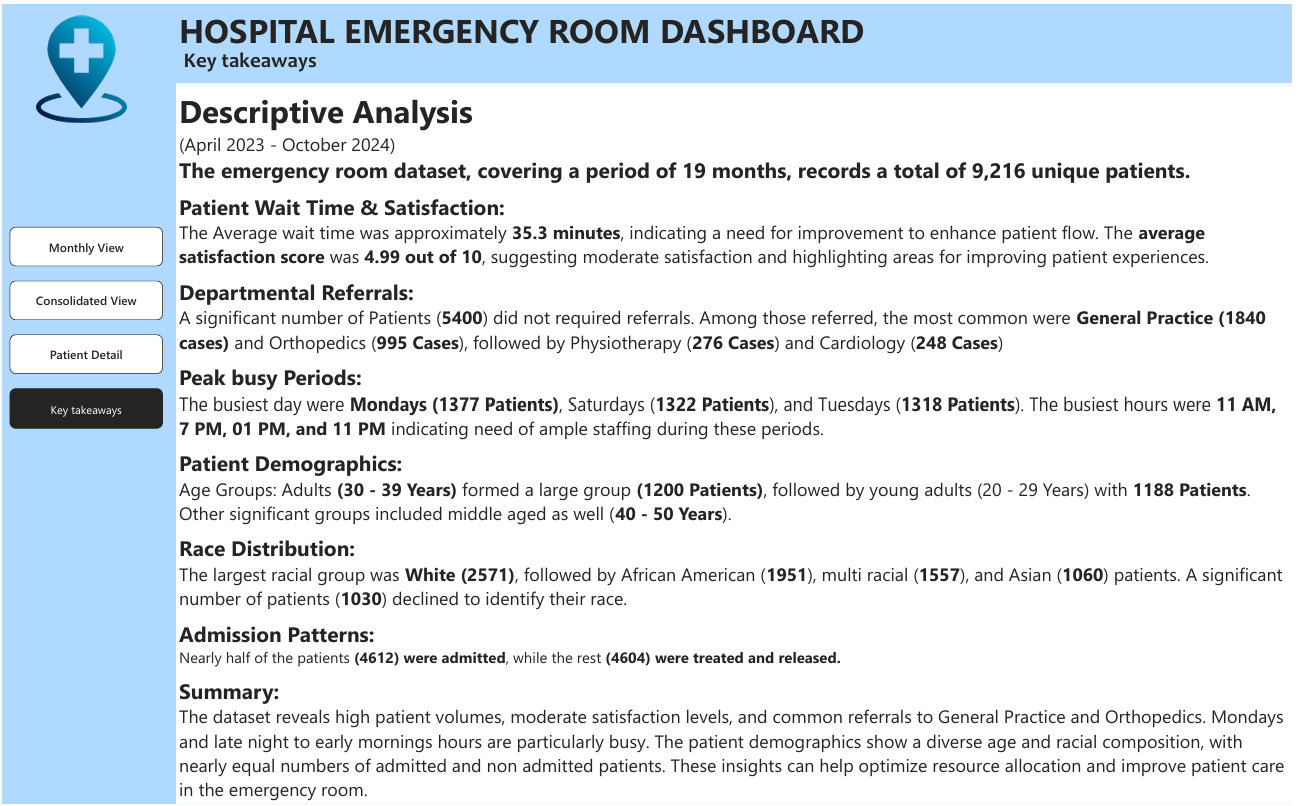

The dashboard page shown, as its layout file describes it:
{"tool":"powerbi","page":{"name":" Key takeaways","canvas":[2300,1424],"ordinal":3},"visuals":[{"type":"shape","box":[0,0,310,1425.6],"z":0},{"type":"shape","box":[309.6,0,1990.4,140],"z":1000},{"type":"textbox","box":[310,0,1243.3,96.7],"z":2000},{"type":"textbox","box":[310,70,383.3,76.7],"z":3000},{"type":"image","box":[11.7,20,258.3,191.7],"z":5000},{"type":"textbox","box":[310,146.7,1990,1276.7],"z":6000},{"type":"pageNavigator","box":[13.3,396.7,273.3,360],"z":6001}]}

Visuals, with their boxes on the page's 2300x1424 design canvas (x1, y1, x2, y2). These are canvas units, not pixel positions in the 1302x806 screenshot, which may show the page scaled, cropped or inside an application window:
shape: [0,0,310,1426]
shape: [310,0,2300,140]
textbox: [310,0,1553,97]
textbox: [310,70,693,147]
image: [12,20,270,212]
textbox: [310,147,2300,1423]
pageNavigator: [13,397,287,757]
